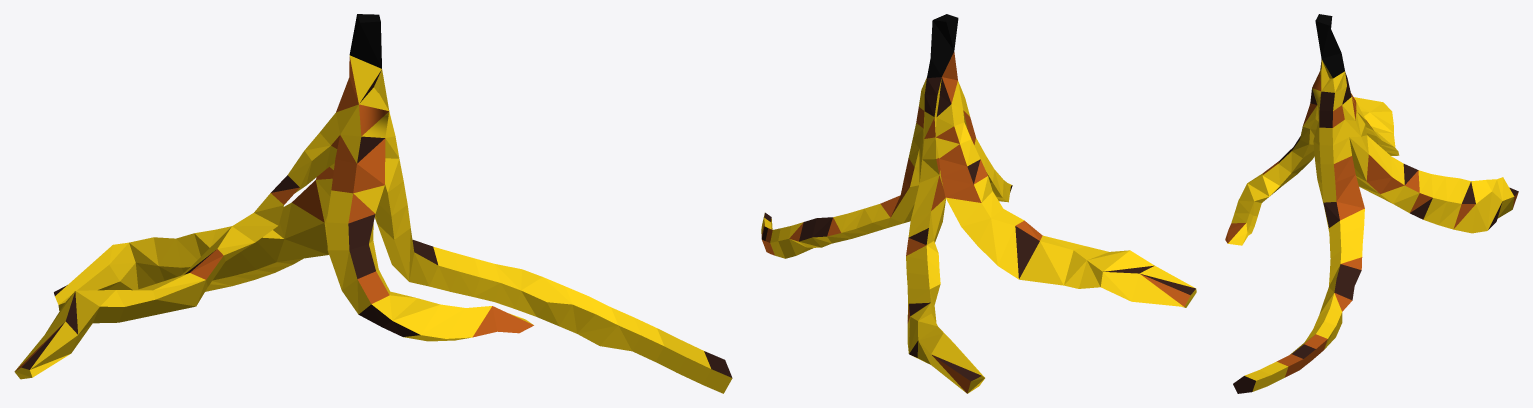
File: BananaPEEL.obj
The picture shows the model from 3 angles, left to right: view 1: azimuth 30°, elevation 25°; view 2: azimuth 150°, elevation 25°; view 3: azimuth 270°, elevation 25°; orthographic projection. The views are drawn at different scales.
Visible parts, largest first — view 1: group645389299; view 2: group645389299; view 3: group645389299.
Boxes of the visible parts, box(x1,y1,x2,y2) form: group645389299: box(14, 14, 732, 393); group645389299: box(761, 14, 1196, 393); group645389299: box(1225, 14, 1518, 393).
Bounding box in the file's own units: 1.42 × 0.8616 × 0.8264.
